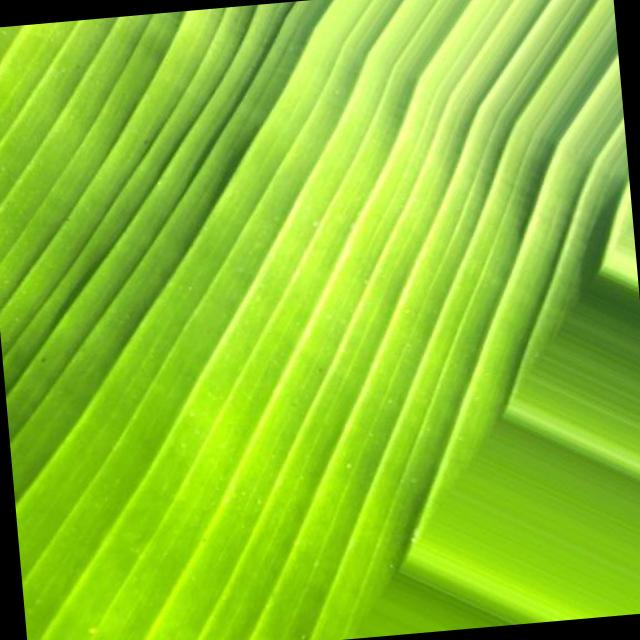Banana_Healthy: (54, 65, 423, 458)
